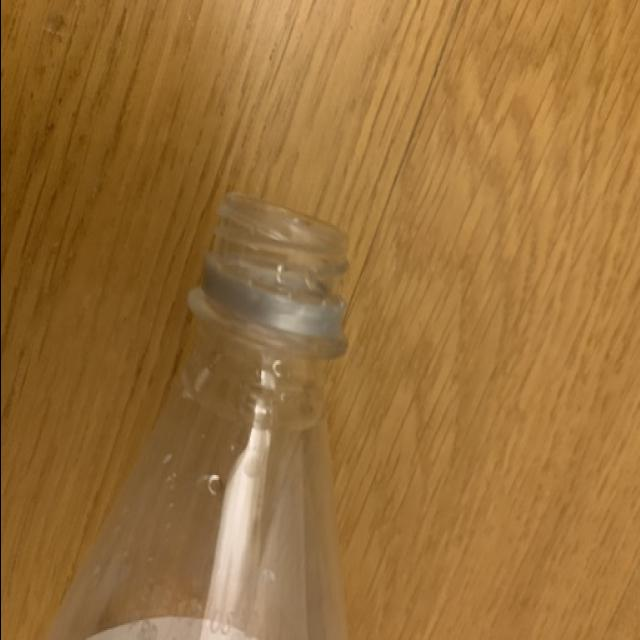PET: (35, 162, 364, 636)
